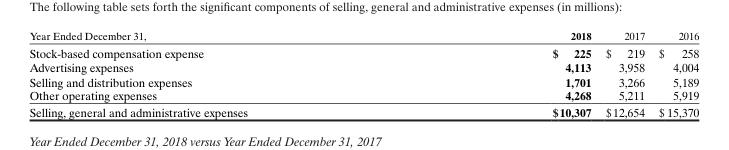table: (28, 29, 698, 118)
table column: (28, 29, 399, 118), (399, 29, 597, 118), (597, 29, 651, 118), (651, 29, 698, 118)
table column header: (28, 29, 698, 43)
table row: (28, 43, 698, 60), (28, 88, 698, 103), (28, 103, 698, 118), (28, 29, 698, 43), (28, 60, 698, 74), (28, 74, 698, 88)
